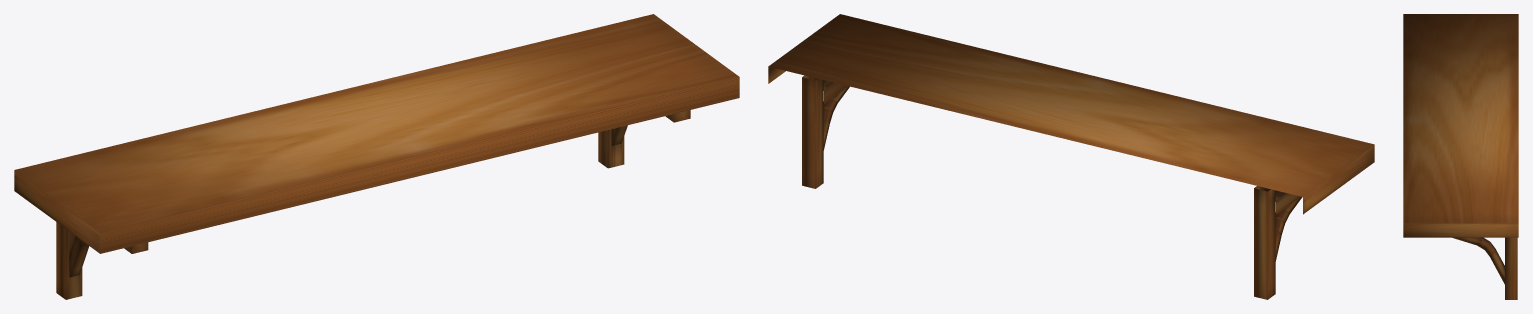
File: Shelf4.fbx
The picture shows the model from 3 angles, left to right: view 1: azimuth 30°, elevation 25°; view 2: azimuth 150°, elevation 25°; view 3: azimuth 270°, elevation 25°; orthographic projection. The views are drawn at different scales.
Parts seen in each view (by area): view 1: Prateleira MODULO 04; view 2: Prateleira MODULO 04; view 3: Prateleira MODULO 04.
Part boxes in pixels (<box>): Prateleira MODULO 04: <box>14,14,739,299</box>; Prateleira MODULO 04: <box>768,14,1374,299</box>; Prateleira MODULO 04: <box>1403,14,1518,299</box>.
Size of the model in its own units: 103 by 20.54 by 24.01.
